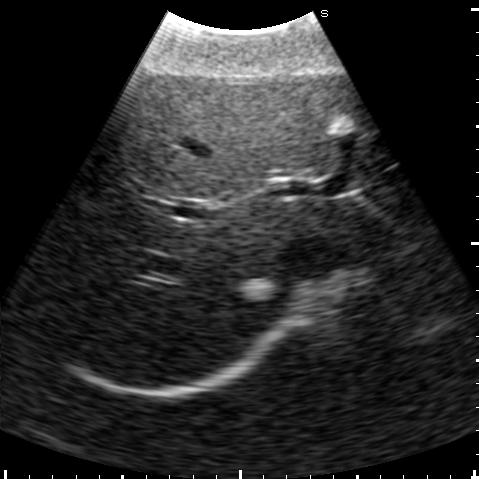IVC: (280, 235, 346, 279)
S1: (335, 205, 389, 251)
S2: (362, 180, 434, 225)
S3: (345, 78, 402, 187)
S4: (128, 77, 340, 200)
Tumor: (242, 280, 274, 300), (330, 117, 352, 134)
